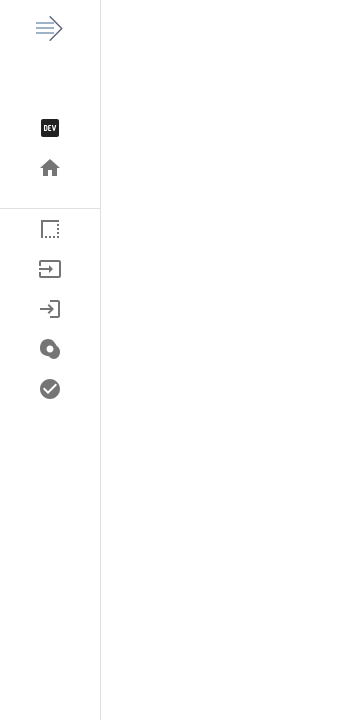
Test case: expand/collapse on hover › expands on hover
Hover over the icon with test id "link1" at (50, 168), box [38, 156, 62, 180]
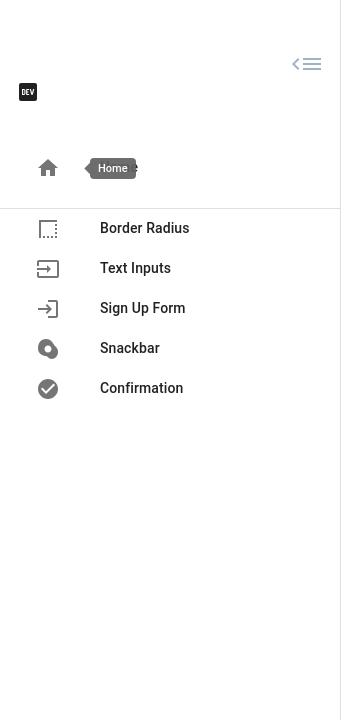
Result: the icon with test id "collapsedSvg" is gone
Result: the icon with test id "expandedSvg" is shown at [16, 80, 40, 104]
Move the pointer off the icon with test id "link1", box [36, 156, 60, 180]
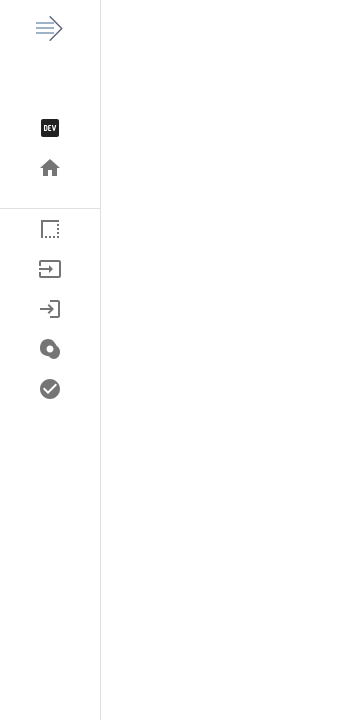
Result: the icon with test id "collapsedSvg" is shown at [38, 116, 62, 140]
Result: the icon with test id "expandedSvg" is gone
